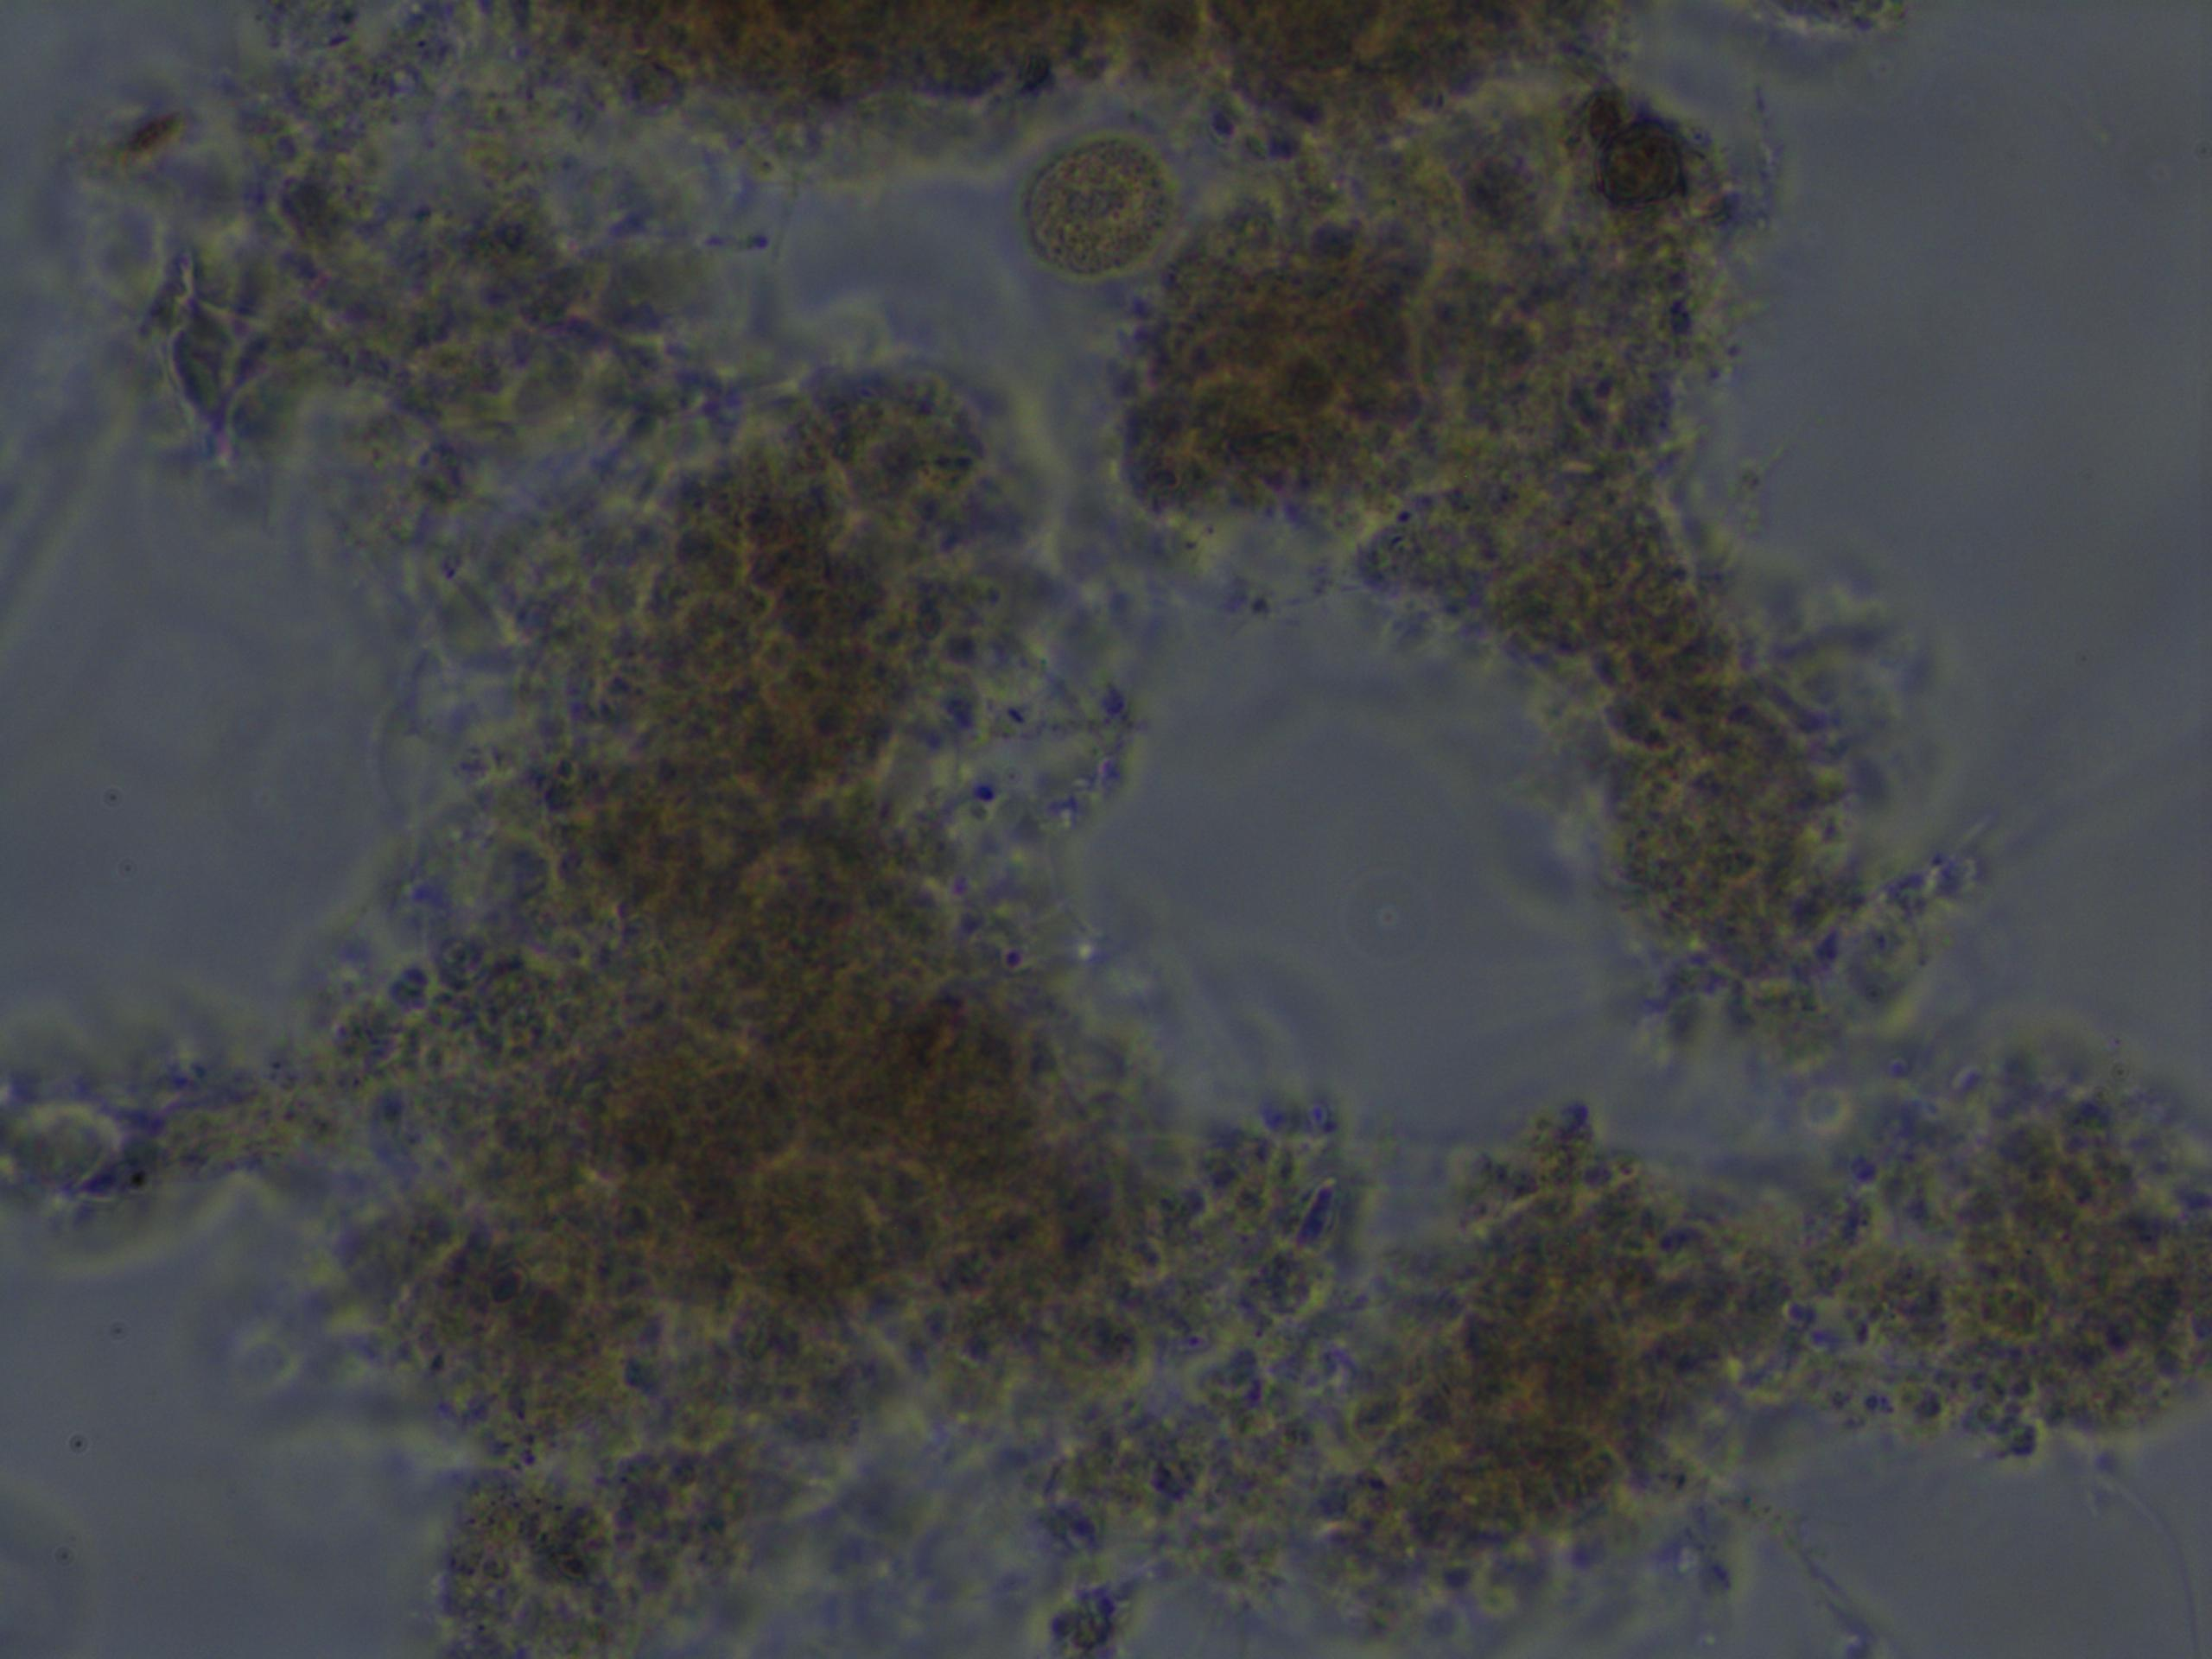open_floc: (38, 0, 2212, 1659)
